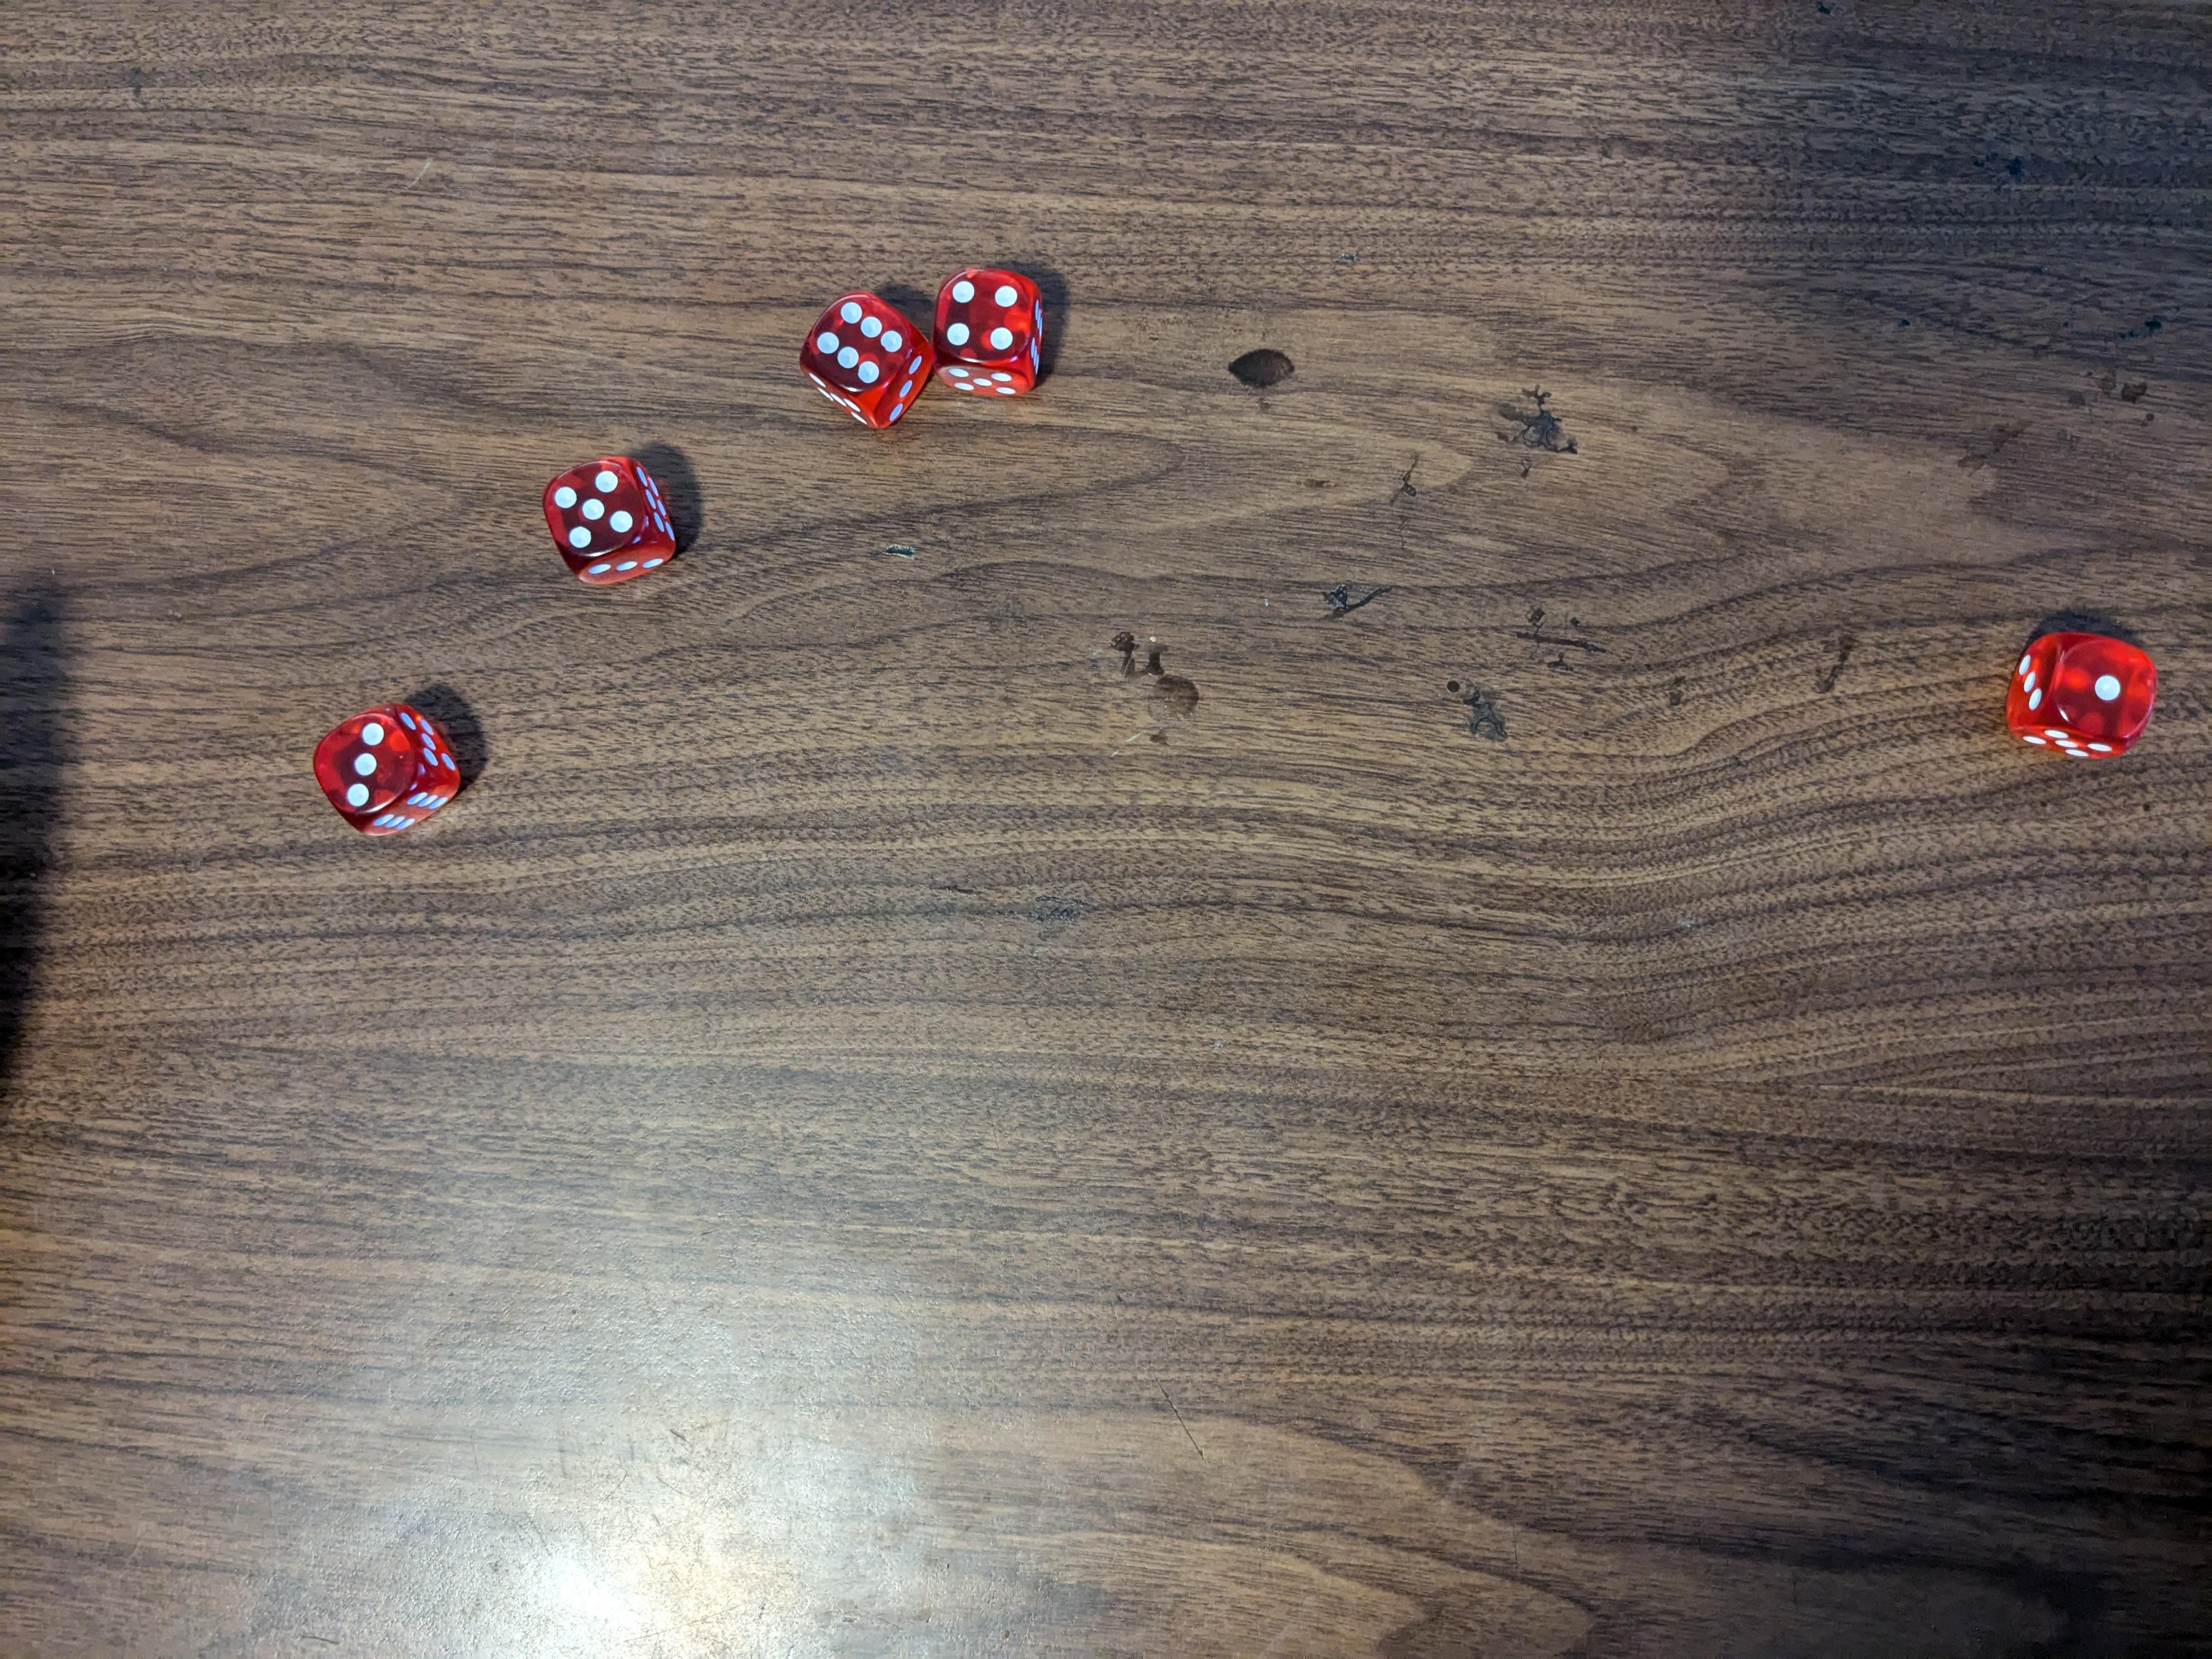five: (545, 450, 676, 589)
four: (925, 261, 1055, 406)
one: (2005, 626, 2167, 767)
six: (796, 288, 939, 425)
three: (315, 701, 474, 835)
